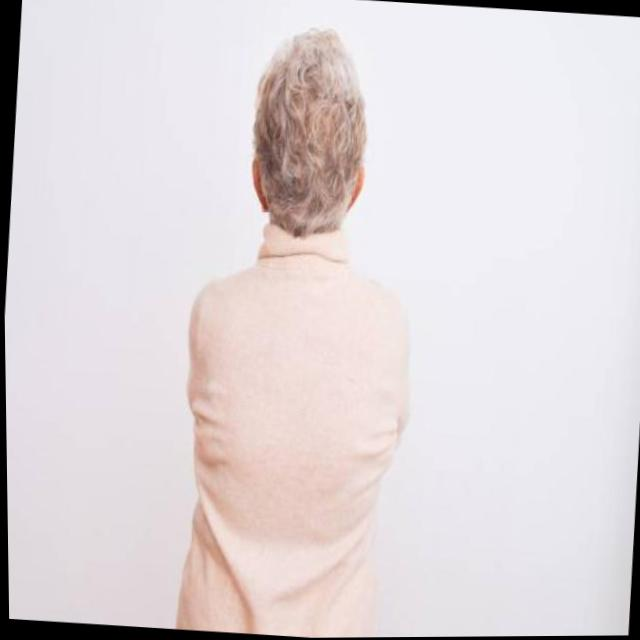no helmet: (230, 33, 380, 234)
